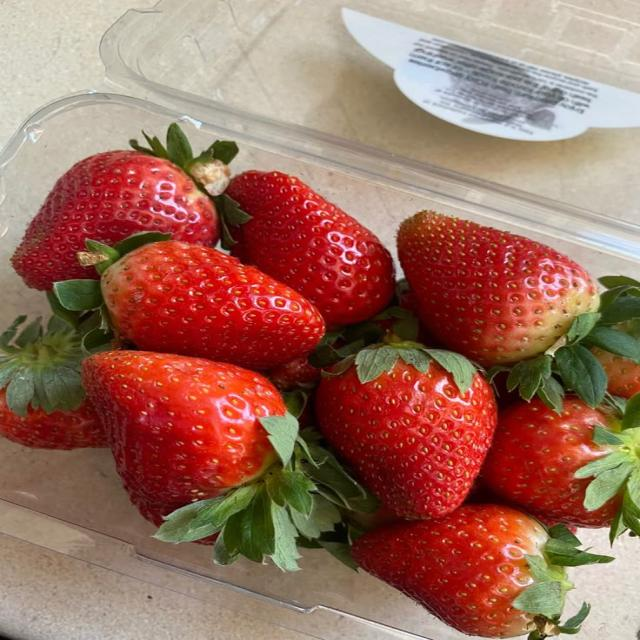strawberry: (83, 351, 370, 570), (398, 211, 639, 409), (12, 124, 236, 289), (83, 351, 285, 524), (352, 505, 613, 638), (55, 241, 324, 369), (316, 342, 496, 518), (398, 211, 598, 365), (227, 171, 394, 326), (482, 396, 639, 537), (0, 316, 106, 450), (0, 390, 106, 450), (600, 276, 639, 341), (594, 348, 639, 398), (466, 477, 526, 510), (267, 356, 320, 391)
